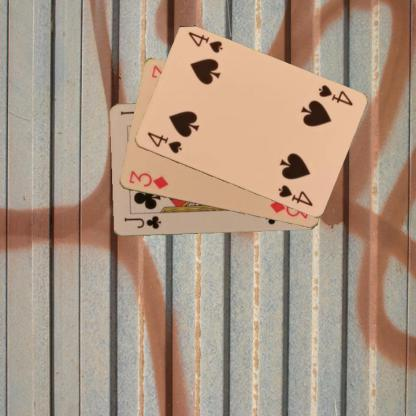3d: (126, 168, 170, 191)
4s: (315, 82, 354, 108), (144, 129, 182, 155)
Jc: (121, 214, 162, 230)
